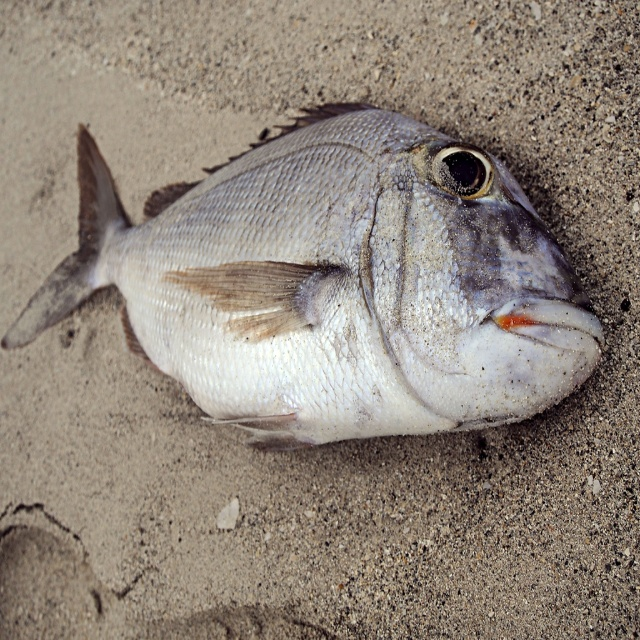Fish: (1, 102, 605, 448)
